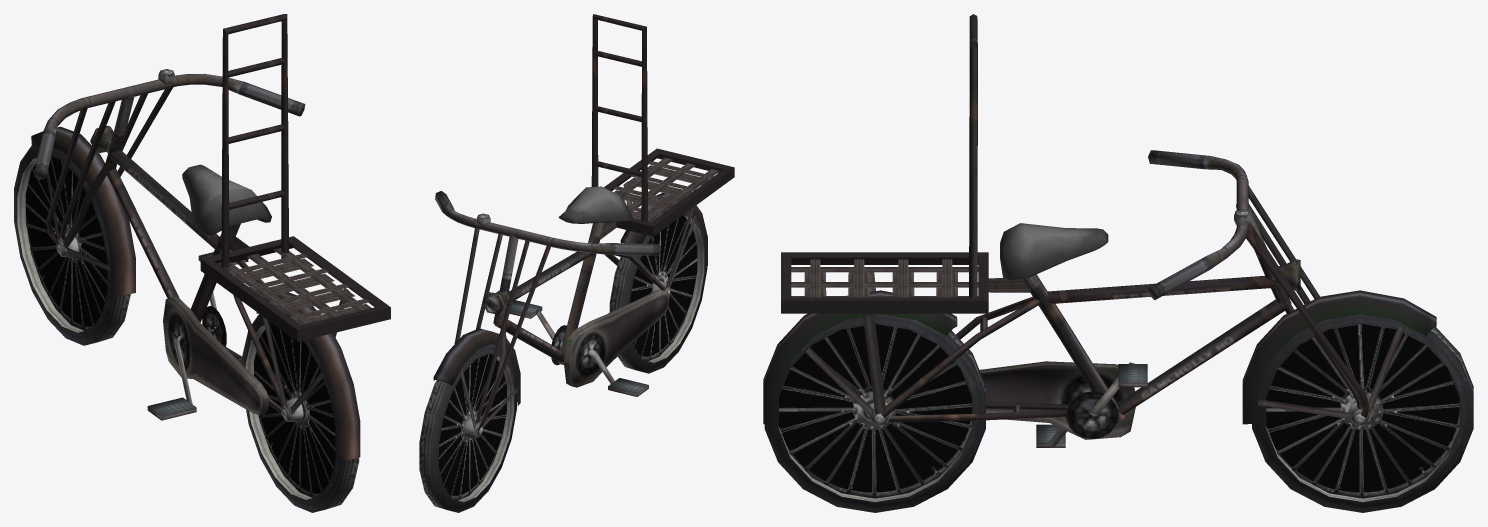
The model's file is bike.fbx.
3 views of the same model, side by side, from view 1: azimuth 30°, elevation 25°; view 2: azimuth 150°, elevation 25°; view 3: azimuth 270°, elevation 25° (orthographic). The views are drawn at different scales.
Parts seen in each view (by area): view 1: jim_bike:polySurface244; view 2: jim_bike:polySurface244; view 3: jim_bike:polySurface244.
Part boxes in pixels (x1,y1,x2,y2): jim_bike:polySurface244: (14, 14, 390, 512); jim_bike:polySurface244: (419, 14, 734, 512); jim_bike:polySurface244: (763, 14, 1473, 512).
Bounding box in the file's own units: 13.92 × 22.07 × 29.64.
Materials: 3 (3 with a texture image).
